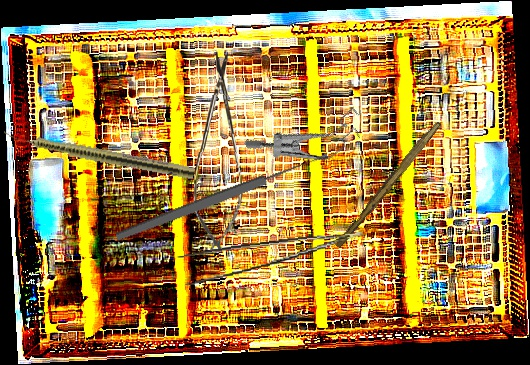Handpiece: (1, 127, 196, 181)
Micro Scissor: (192, 49, 245, 255)
Scalpel Handle: (334, 118, 442, 251)
Speculum: (242, 73, 375, 197)
Surgical Spoon: (114, 149, 330, 244)
Tissue Forceps: (174, 230, 366, 287)
